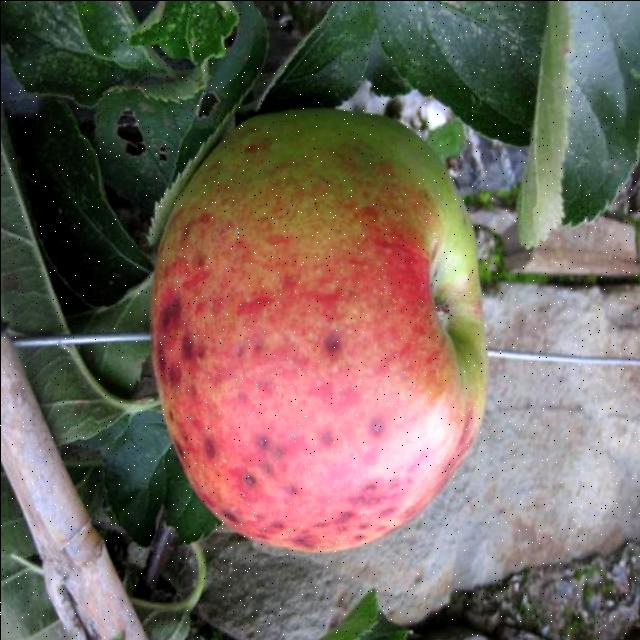SCAB: (124, 108, 480, 575)
